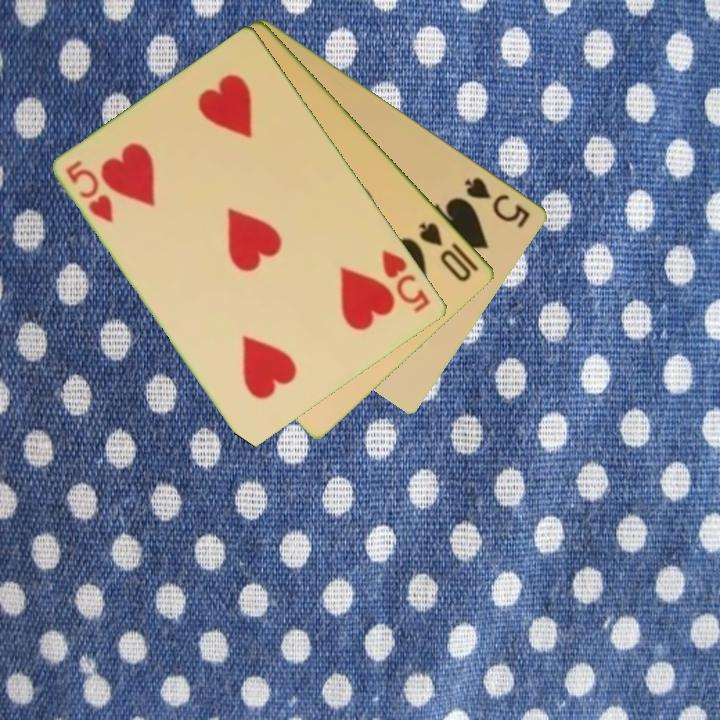10s: (415, 218, 475, 285)
5h: (378, 246, 434, 316), (63, 156, 117, 226)
5s: (461, 173, 534, 231)
